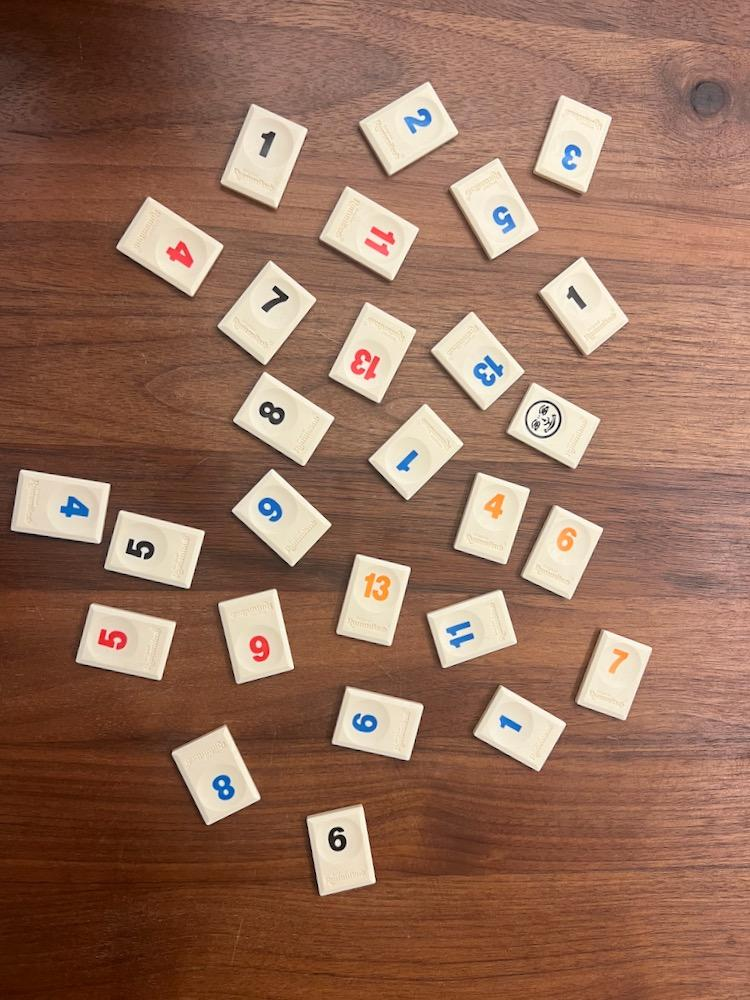black_1: (223, 105, 307, 207), (539, 258, 627, 355)
black_5: (106, 510, 205, 588)
black_6: (308, 806, 374, 896)
black_7: (219, 262, 316, 365)
black_8: (236, 373, 334, 465)
blue_1: (369, 404, 463, 500), (473, 686, 566, 771)
blue_11: (429, 590, 516, 668)
blue_13: (432, 312, 523, 410)
blue_2: (360, 82, 457, 176)
blue_3: (533, 96, 611, 193)
blue_4: (10, 471, 111, 543)
blue_5: (449, 158, 537, 258)
blue_6: (333, 688, 424, 760)
blue_8: (172, 725, 260, 824)
blue_9: (232, 471, 330, 566)
joker: (508, 383, 600, 469)
orange_13: (336, 555, 410, 646)
orange_4: (453, 473, 529, 564)
orange_6: (521, 506, 602, 600)
orange_7: (576, 631, 652, 721)
red_11: (320, 188, 418, 279)
red_13: (330, 303, 416, 402)
red_4: (117, 197, 223, 297)
red_5: (76, 604, 175, 680)
red_6: (219, 590, 293, 684)
